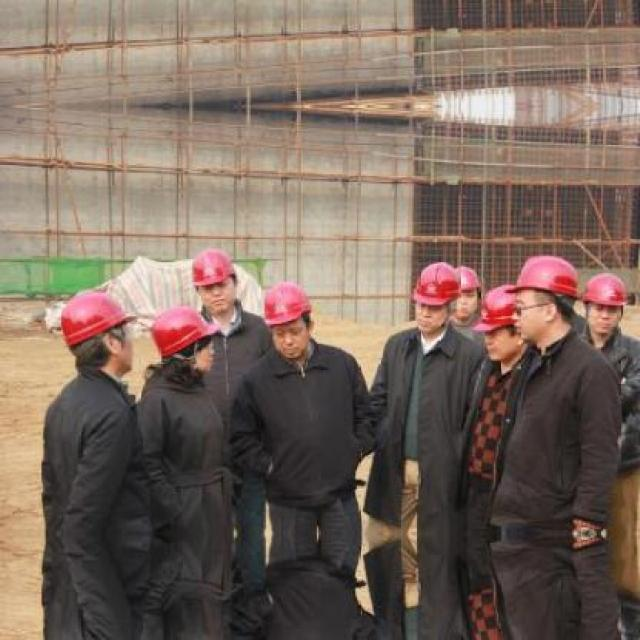helmet: (47, 287, 150, 375), (506, 248, 580, 340), (148, 302, 228, 378), (254, 276, 315, 358), (407, 258, 464, 336), (182, 246, 240, 317), (476, 285, 524, 358), (578, 272, 628, 340), (448, 266, 482, 326)
